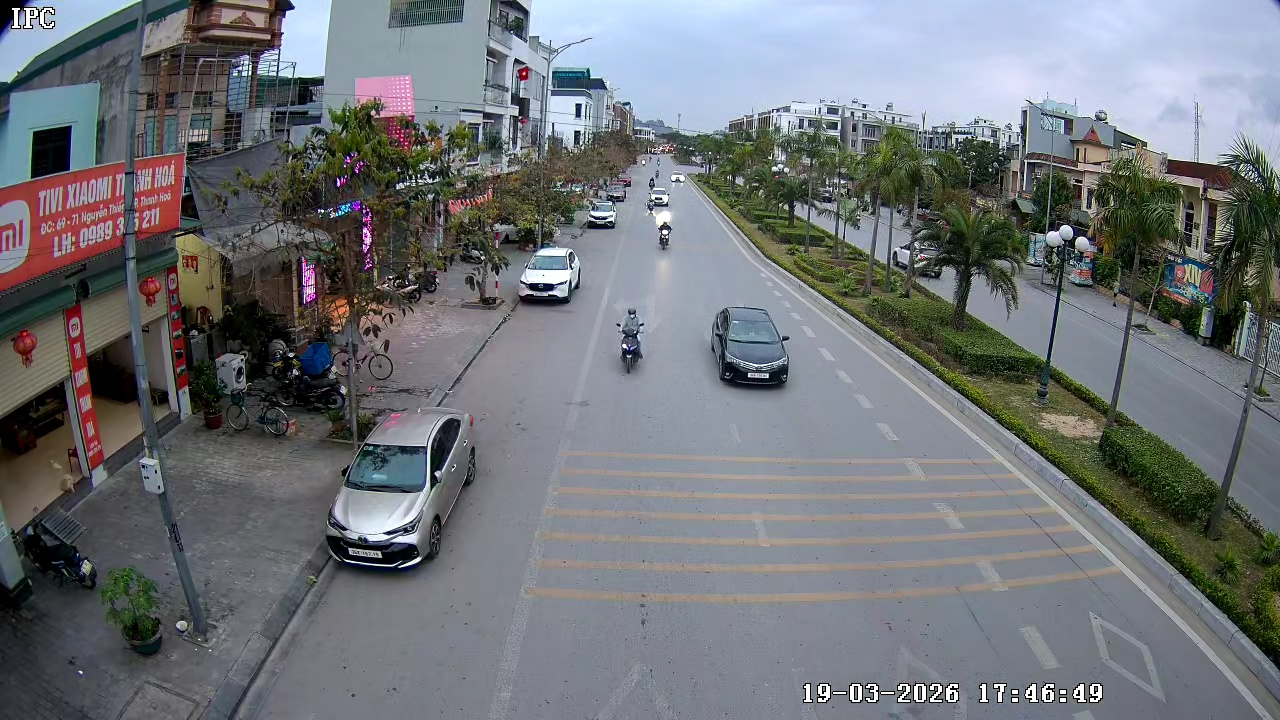bike: (362, 328, 396, 381)
car: (324, 407, 478, 571), (707, 302, 793, 387), (517, 245, 582, 304), (584, 197, 619, 229), (649, 182, 669, 209)
motorbike: (614, 304, 648, 375), (655, 212, 673, 250)
